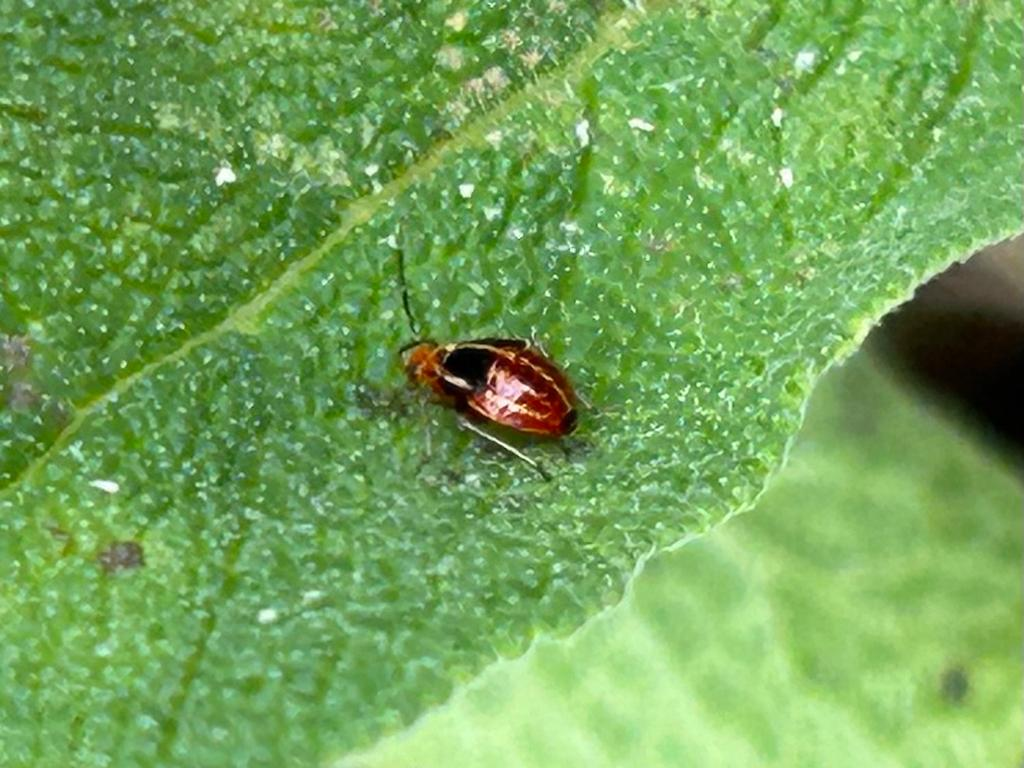plant_bugs: (363, 298, 633, 503)
